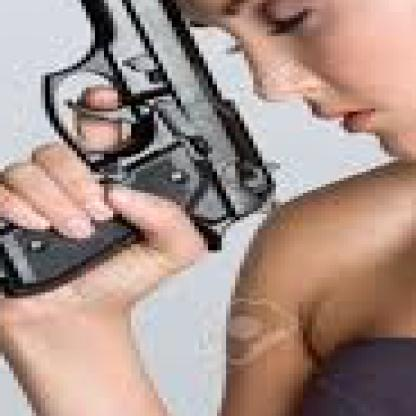gun: (0, 0, 281, 299)
